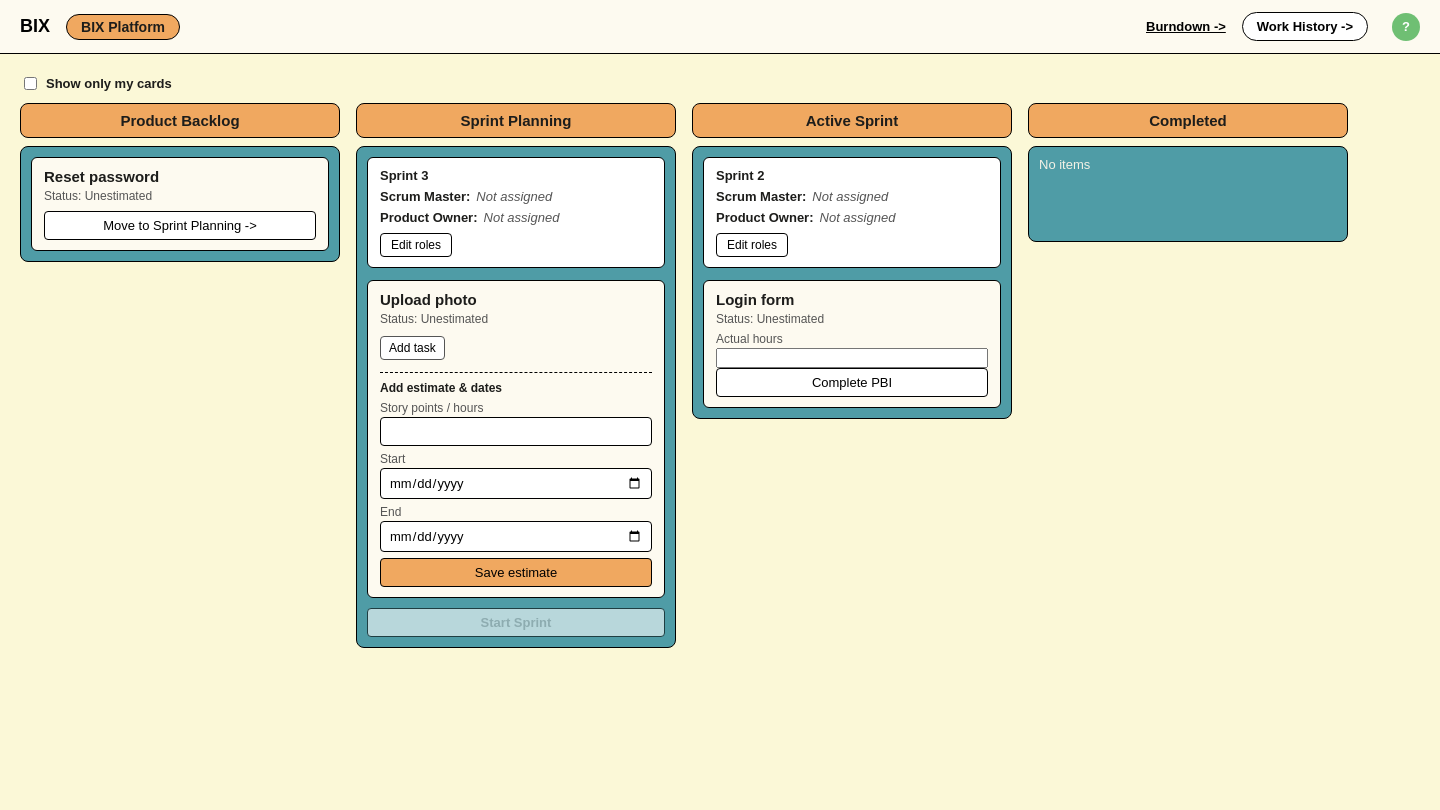
it: Board page - sprint roles (US-09) › shows the 400 for a fake Scrum Master and keeps the form open (AC4)
Check: the heading "Upload photo" is shown, box [380, 291, 477, 308]
Click the button "Edit roles" below "Sprint 3" at (416, 245), box [380, 233, 452, 257]
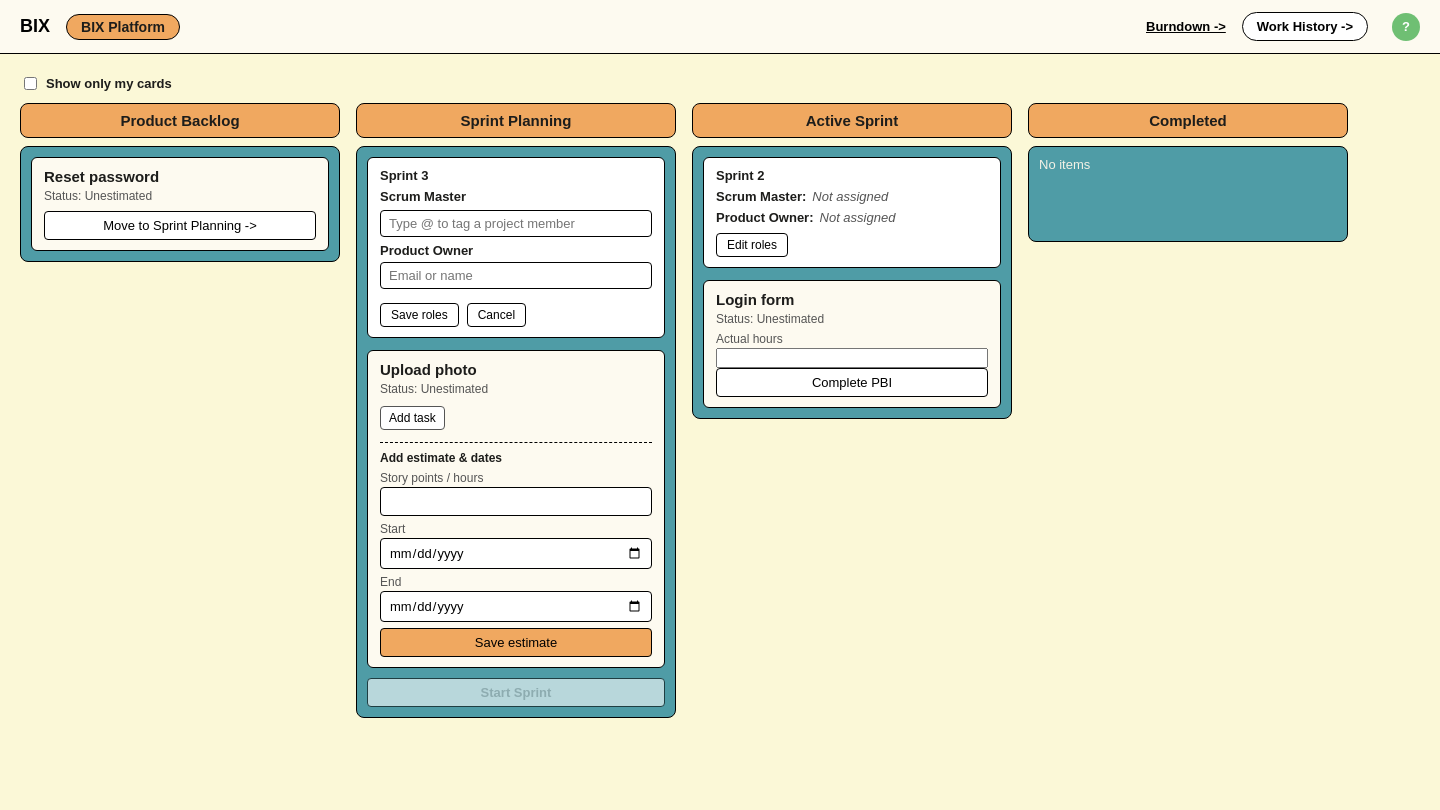
Type "@" into the dropdown named "Scrum Master" at (516, 224), box [380, 210, 652, 237]
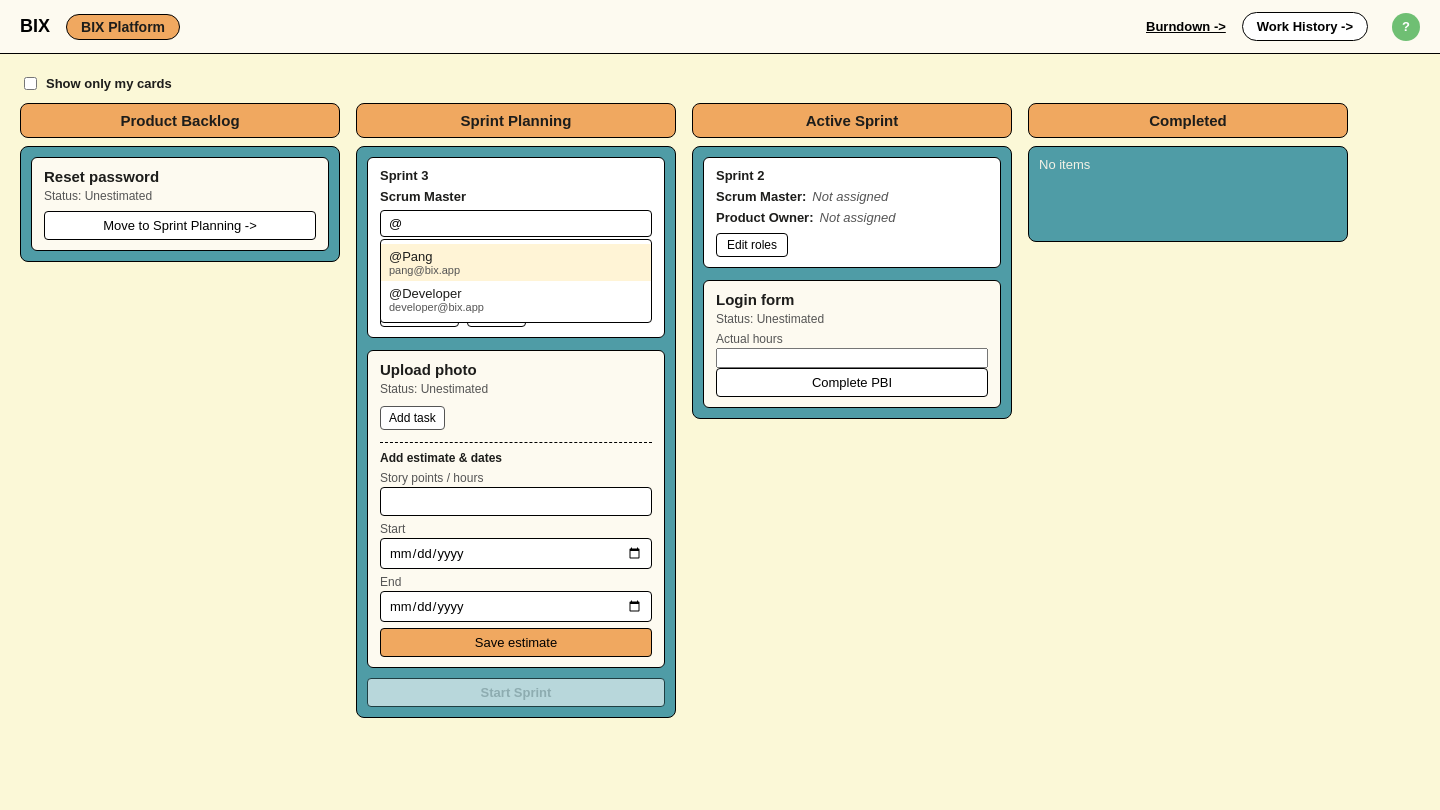
Press the mouse on the option "@Developer developer@bix.app" at (436, 300), box [389, 286, 484, 313]
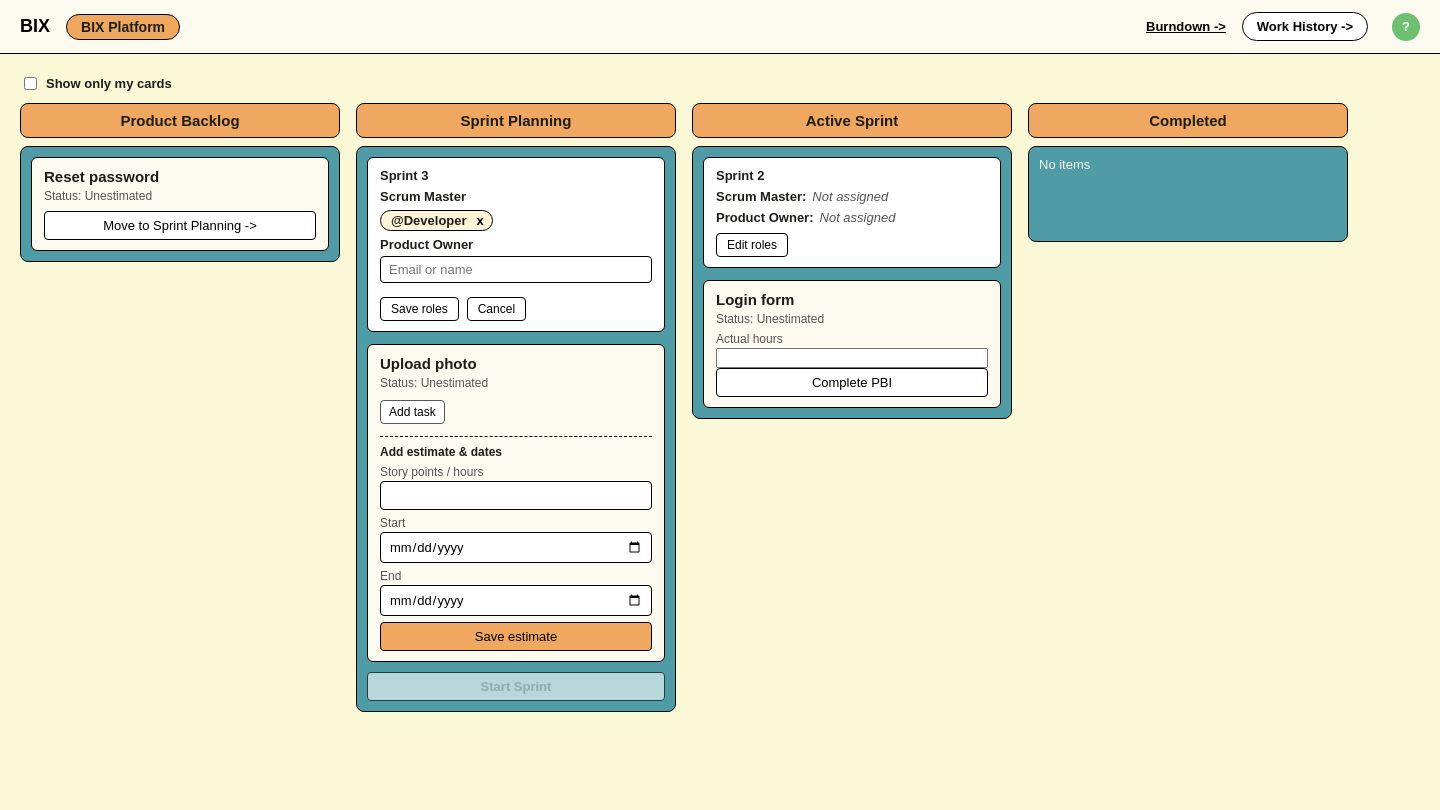
Click the button "Save roles" at (419, 309), box [380, 297, 459, 321]
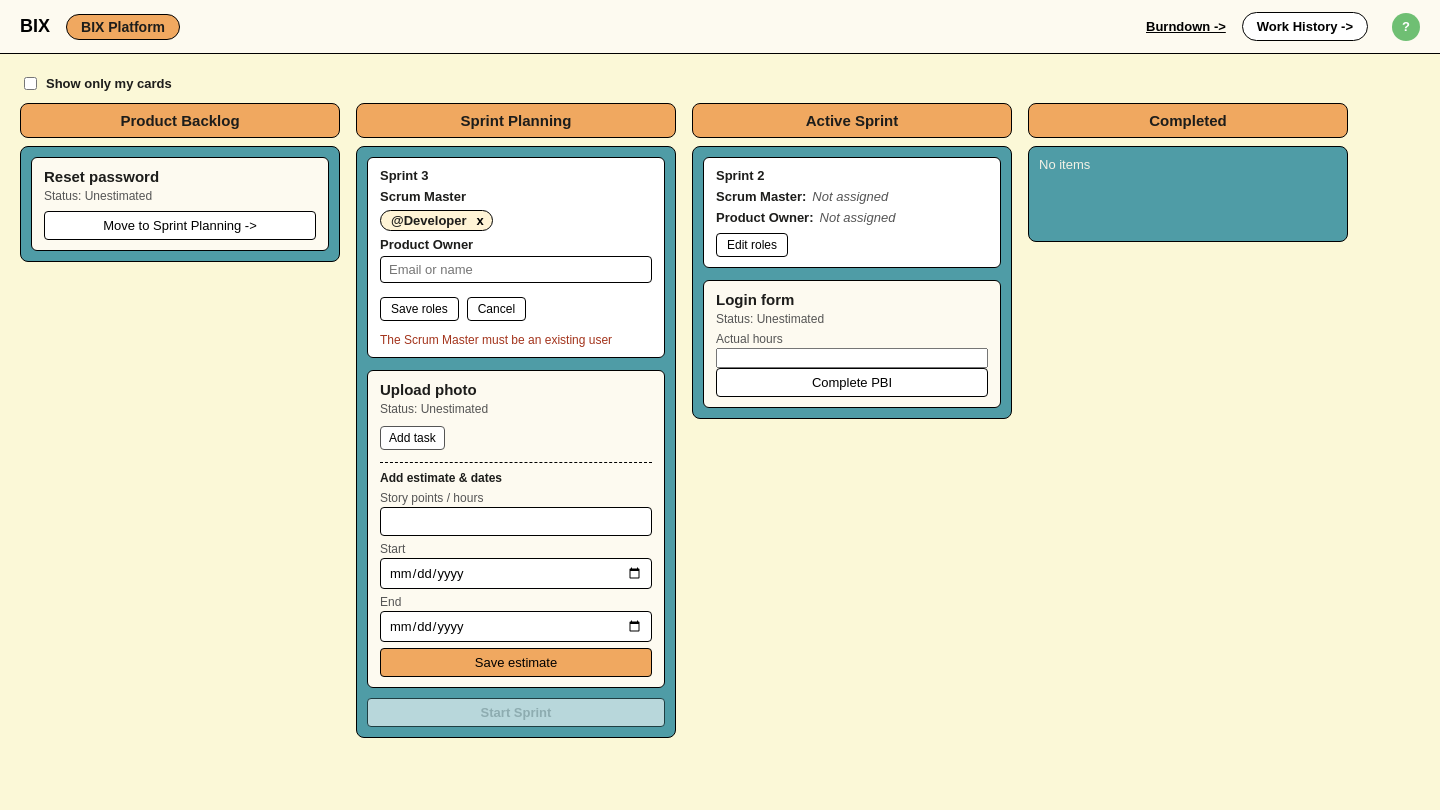
Check: the button "Save roles" is shown, box [380, 297, 459, 321]
Check: the message reads "The Scrum Master must be an existing user", box [380, 333, 612, 347]
